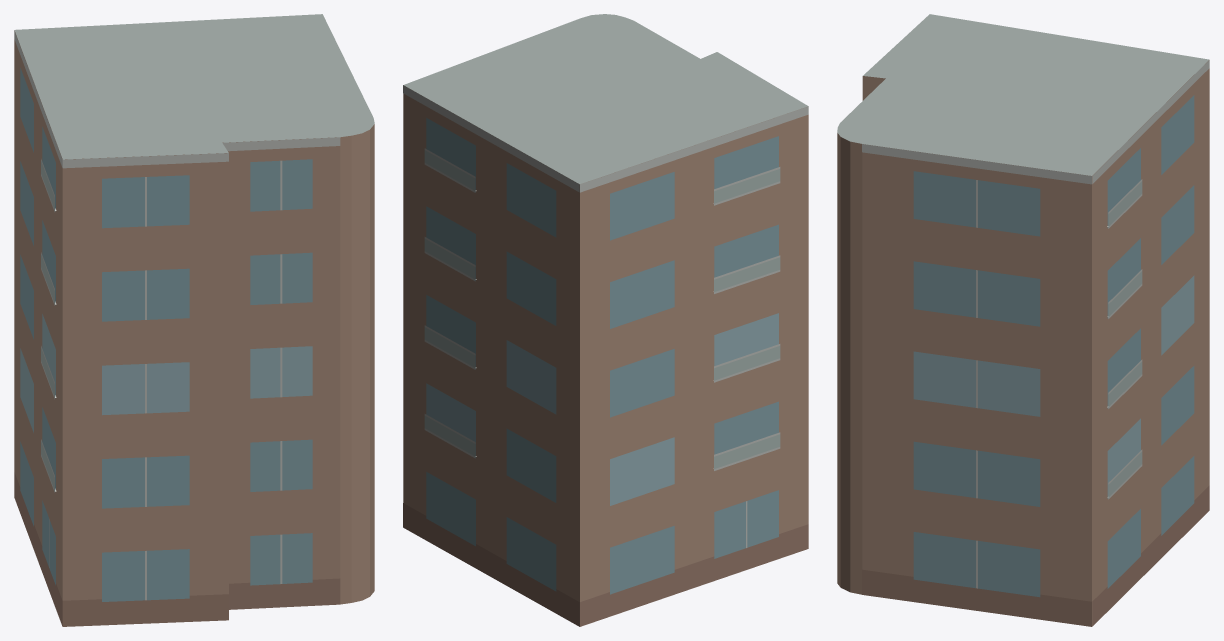
The model's file is survey-upis-32875237.glb.
The picture shows the model from 3 angles, left to right: view 1: azimuth 30°, elevation 25°; view 2: azimuth 150°, elevation 25°; view 3: azimuth 270°, elevation 25°; orthographic projection. The views are drawn at different scales.
Visible parts, largest first — view 1: survey-upis-32875237.tmp; view 2: survey-upis-32875237.tmp; view 3: survey-upis-32875237.tmp.
Boxes of the visible parts, bbox=[...] form: survey-upis-32875237.tmp: bbox=[14, 14, 374, 626]; survey-upis-32875237.tmp: bbox=[403, 14, 808, 626]; survey-upis-32875237.tmp: bbox=[837, 14, 1209, 626].
Bounding box in the file's own units: 10.03 × 13 × 9.73.
